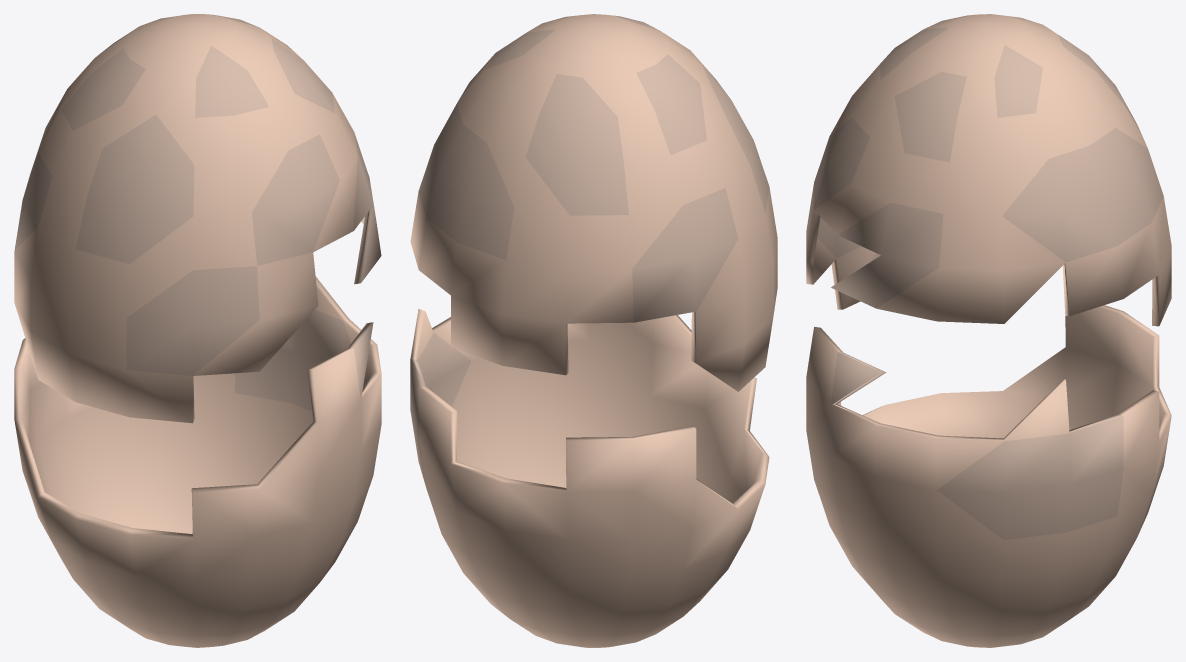
The model's file is BrokenEgg.fbx.
3 renders of one model, left to right at view 1: azimuth 30°, elevation 25°; view 2: azimuth 150°, elevation 25°; view 3: azimuth 270°, elevation 25°, orthographic.
Parts seen in each view (by area): view 1: Sphere.004, Sphere.005; view 2: Sphere.004, Sphere.005; view 3: Sphere.004, Sphere.005.
Boxes of the visible parts, x1,y1,x2,y2 form: Sphere.004: (14,14,381,423); Sphere.005: (14,276,381,647); Sphere.004: (410,14,777,391); Sphere.005: (410,308,769,647); Sphere.004: (806,14,1171,326); Sphere.005: (806,305,1171,647).
Size of the model in its own units: 28.99 by 53.35 by 28.87.
